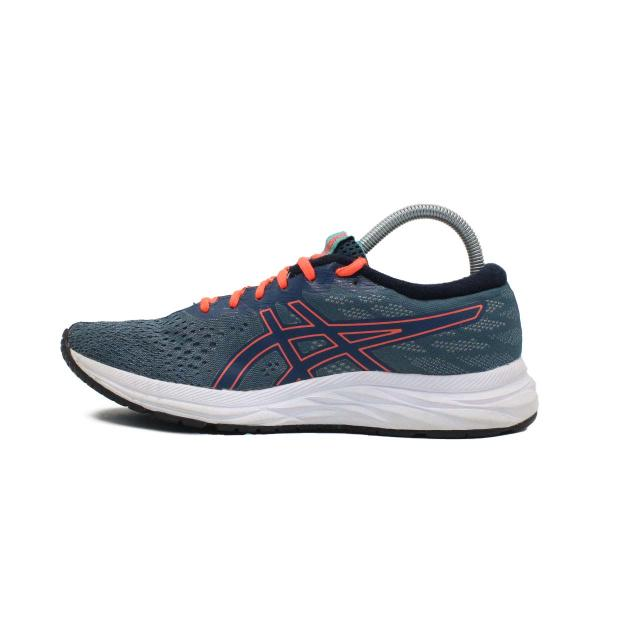heel: (471, 264, 526, 365)
midsole: (63, 342, 536, 431)
uppersole: (68, 230, 488, 392)
